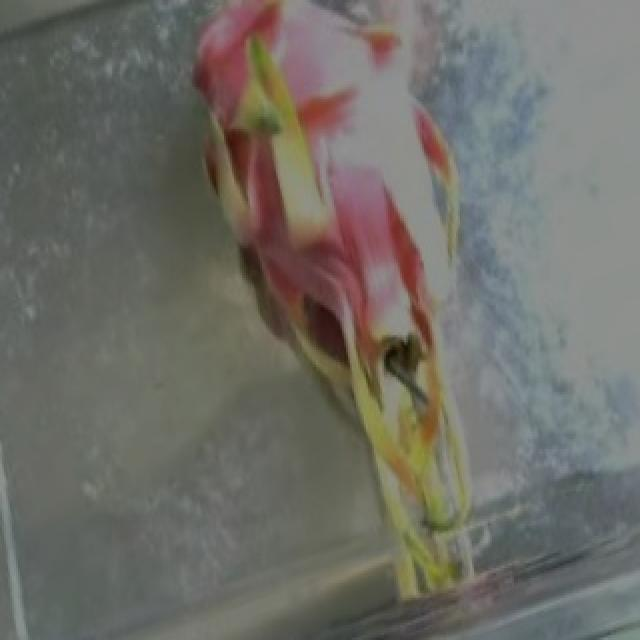fruit: (124, 0, 500, 427)
